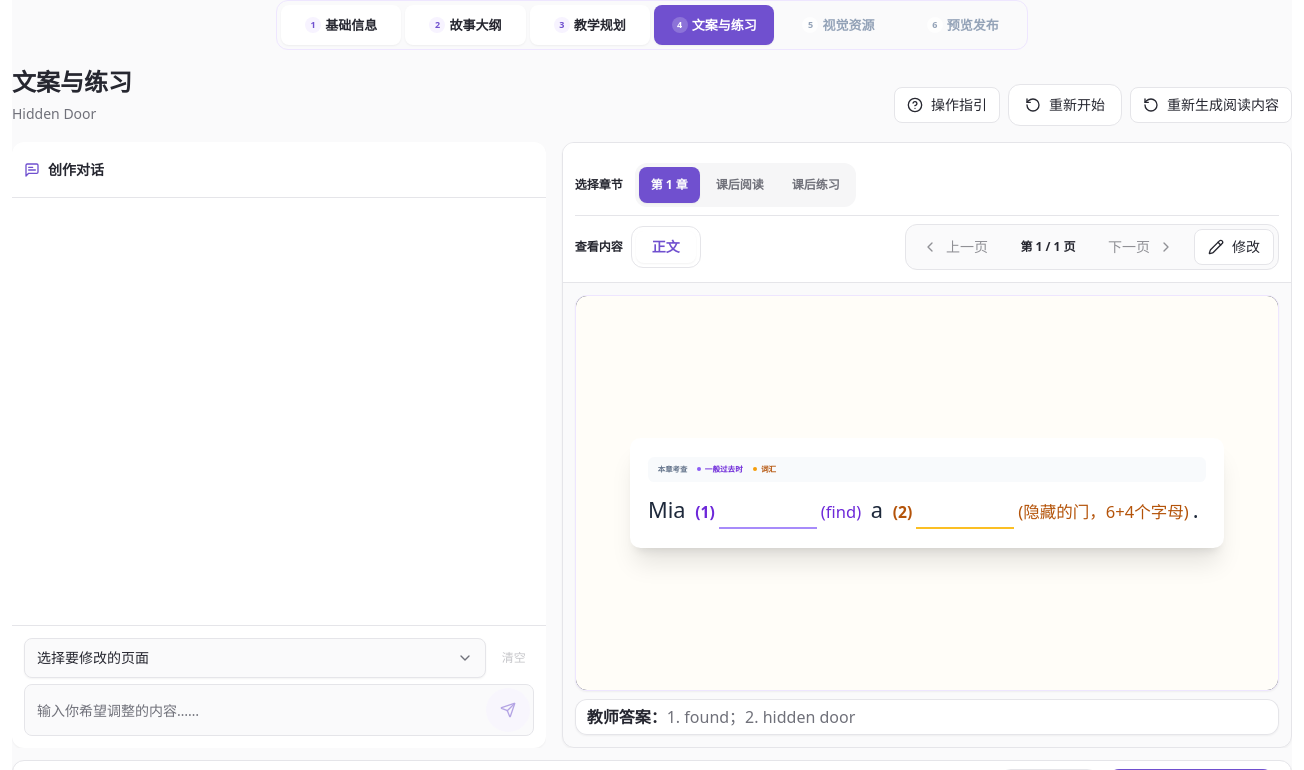
Test: CourseContentWorkspace › switches to pure main idea and closed vocabulary matching page
Click the tab "课后阅读" at (740, 185), box top-left (704, 167), bottom-right (776, 203)
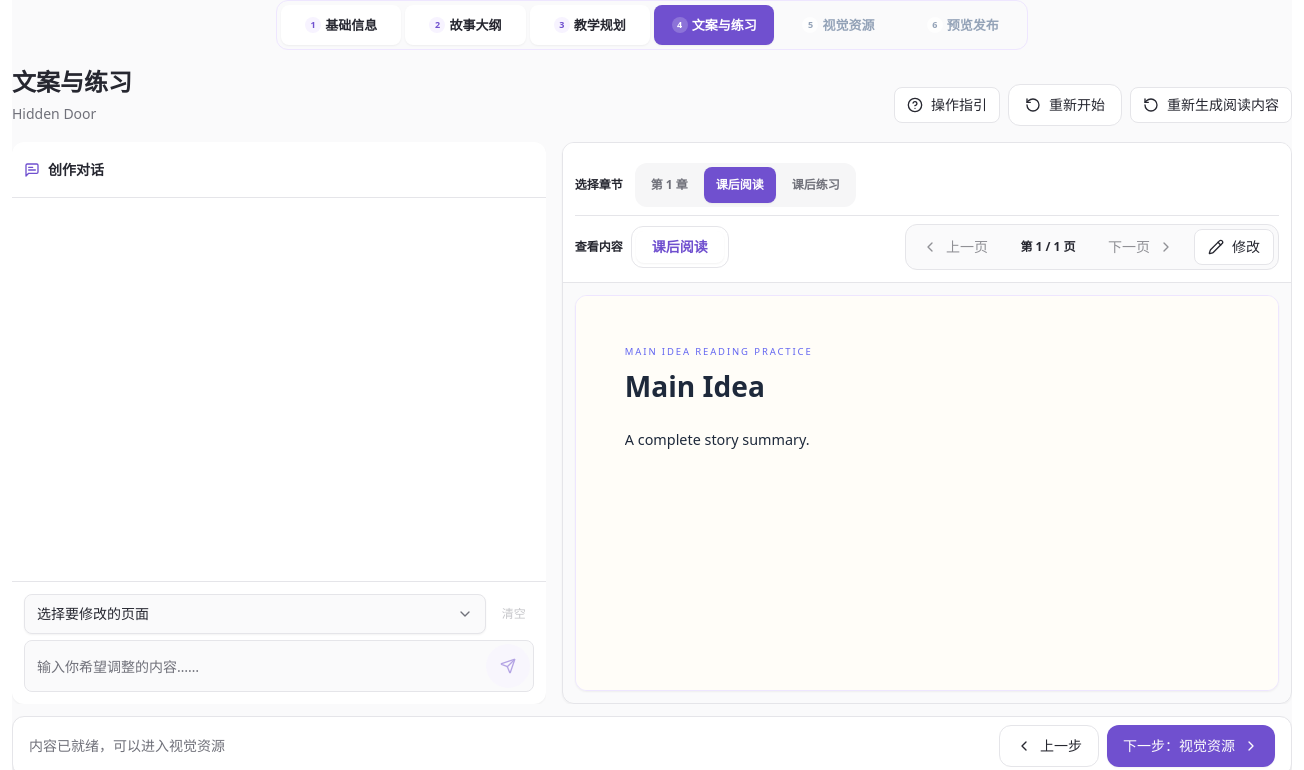
Check: the text "A complete story summary." is shown, box top-left (625, 430), bottom-right (810, 449)
Click the tab "课后练习" at (816, 185), box top-left (780, 167), bottom-right (852, 203)
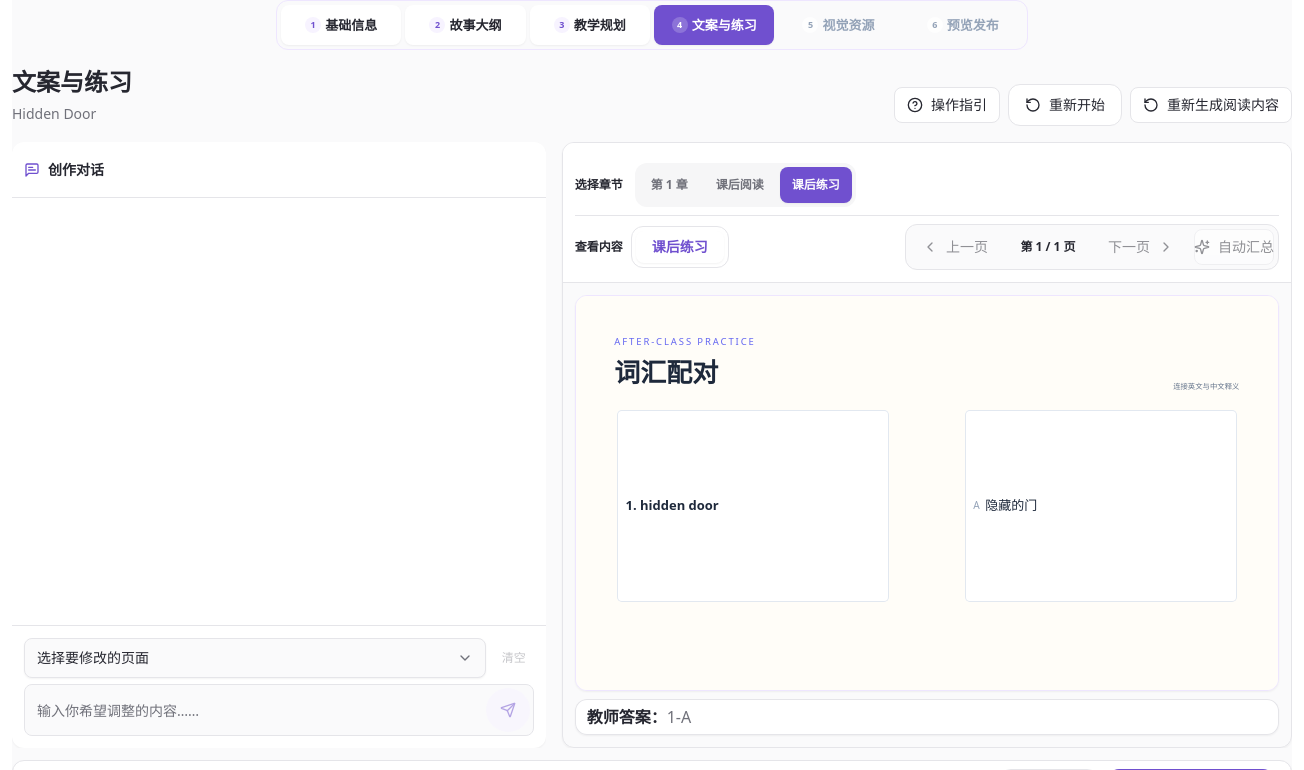
Check: the text "1. hidden door" is shown, box top-left (617, 410), bottom-right (889, 602)
Check: the text "隐藏的门" is shown, box top-left (985, 496), bottom-right (1037, 514)
